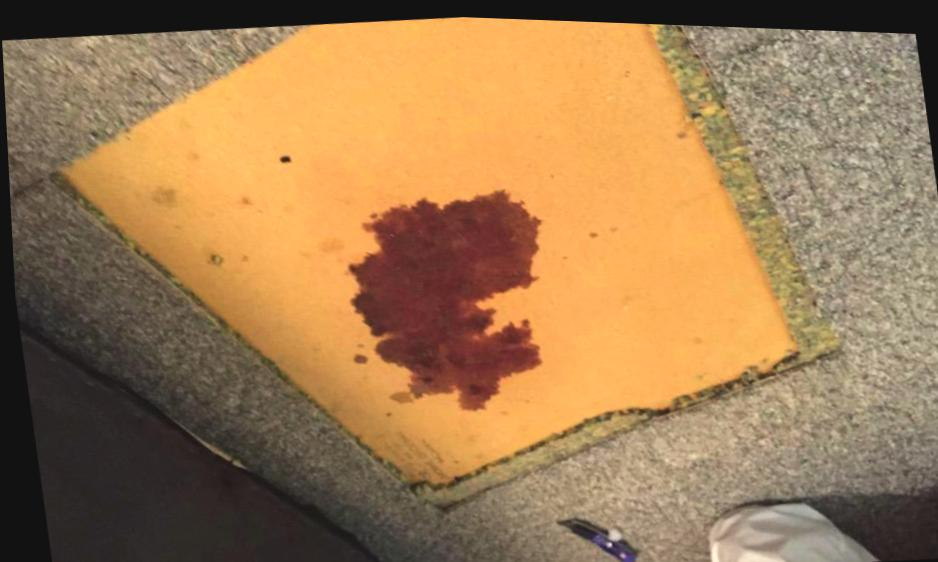Fire: (345, 186, 539, 407)
